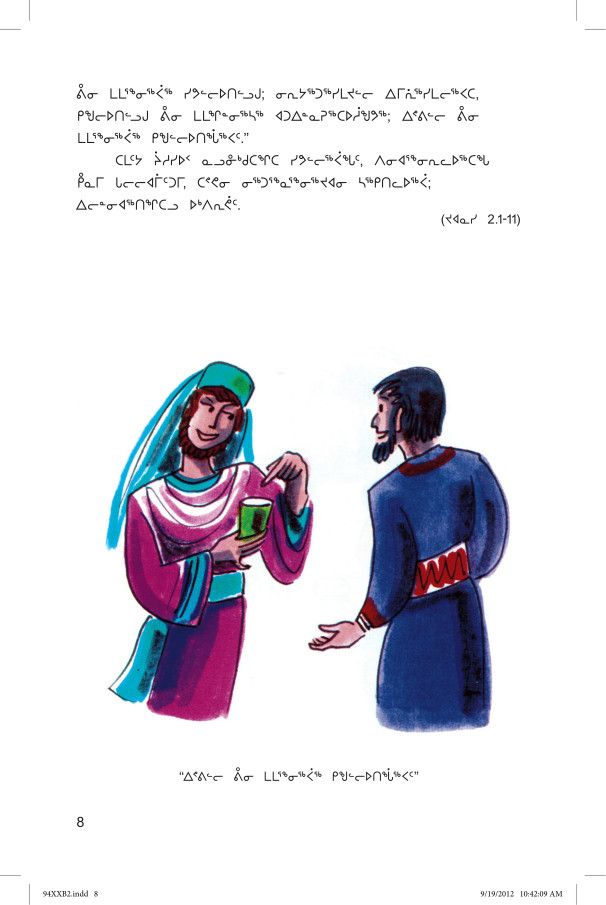inuktitut: (65, 77, 517, 211), (174, 760, 425, 788)
